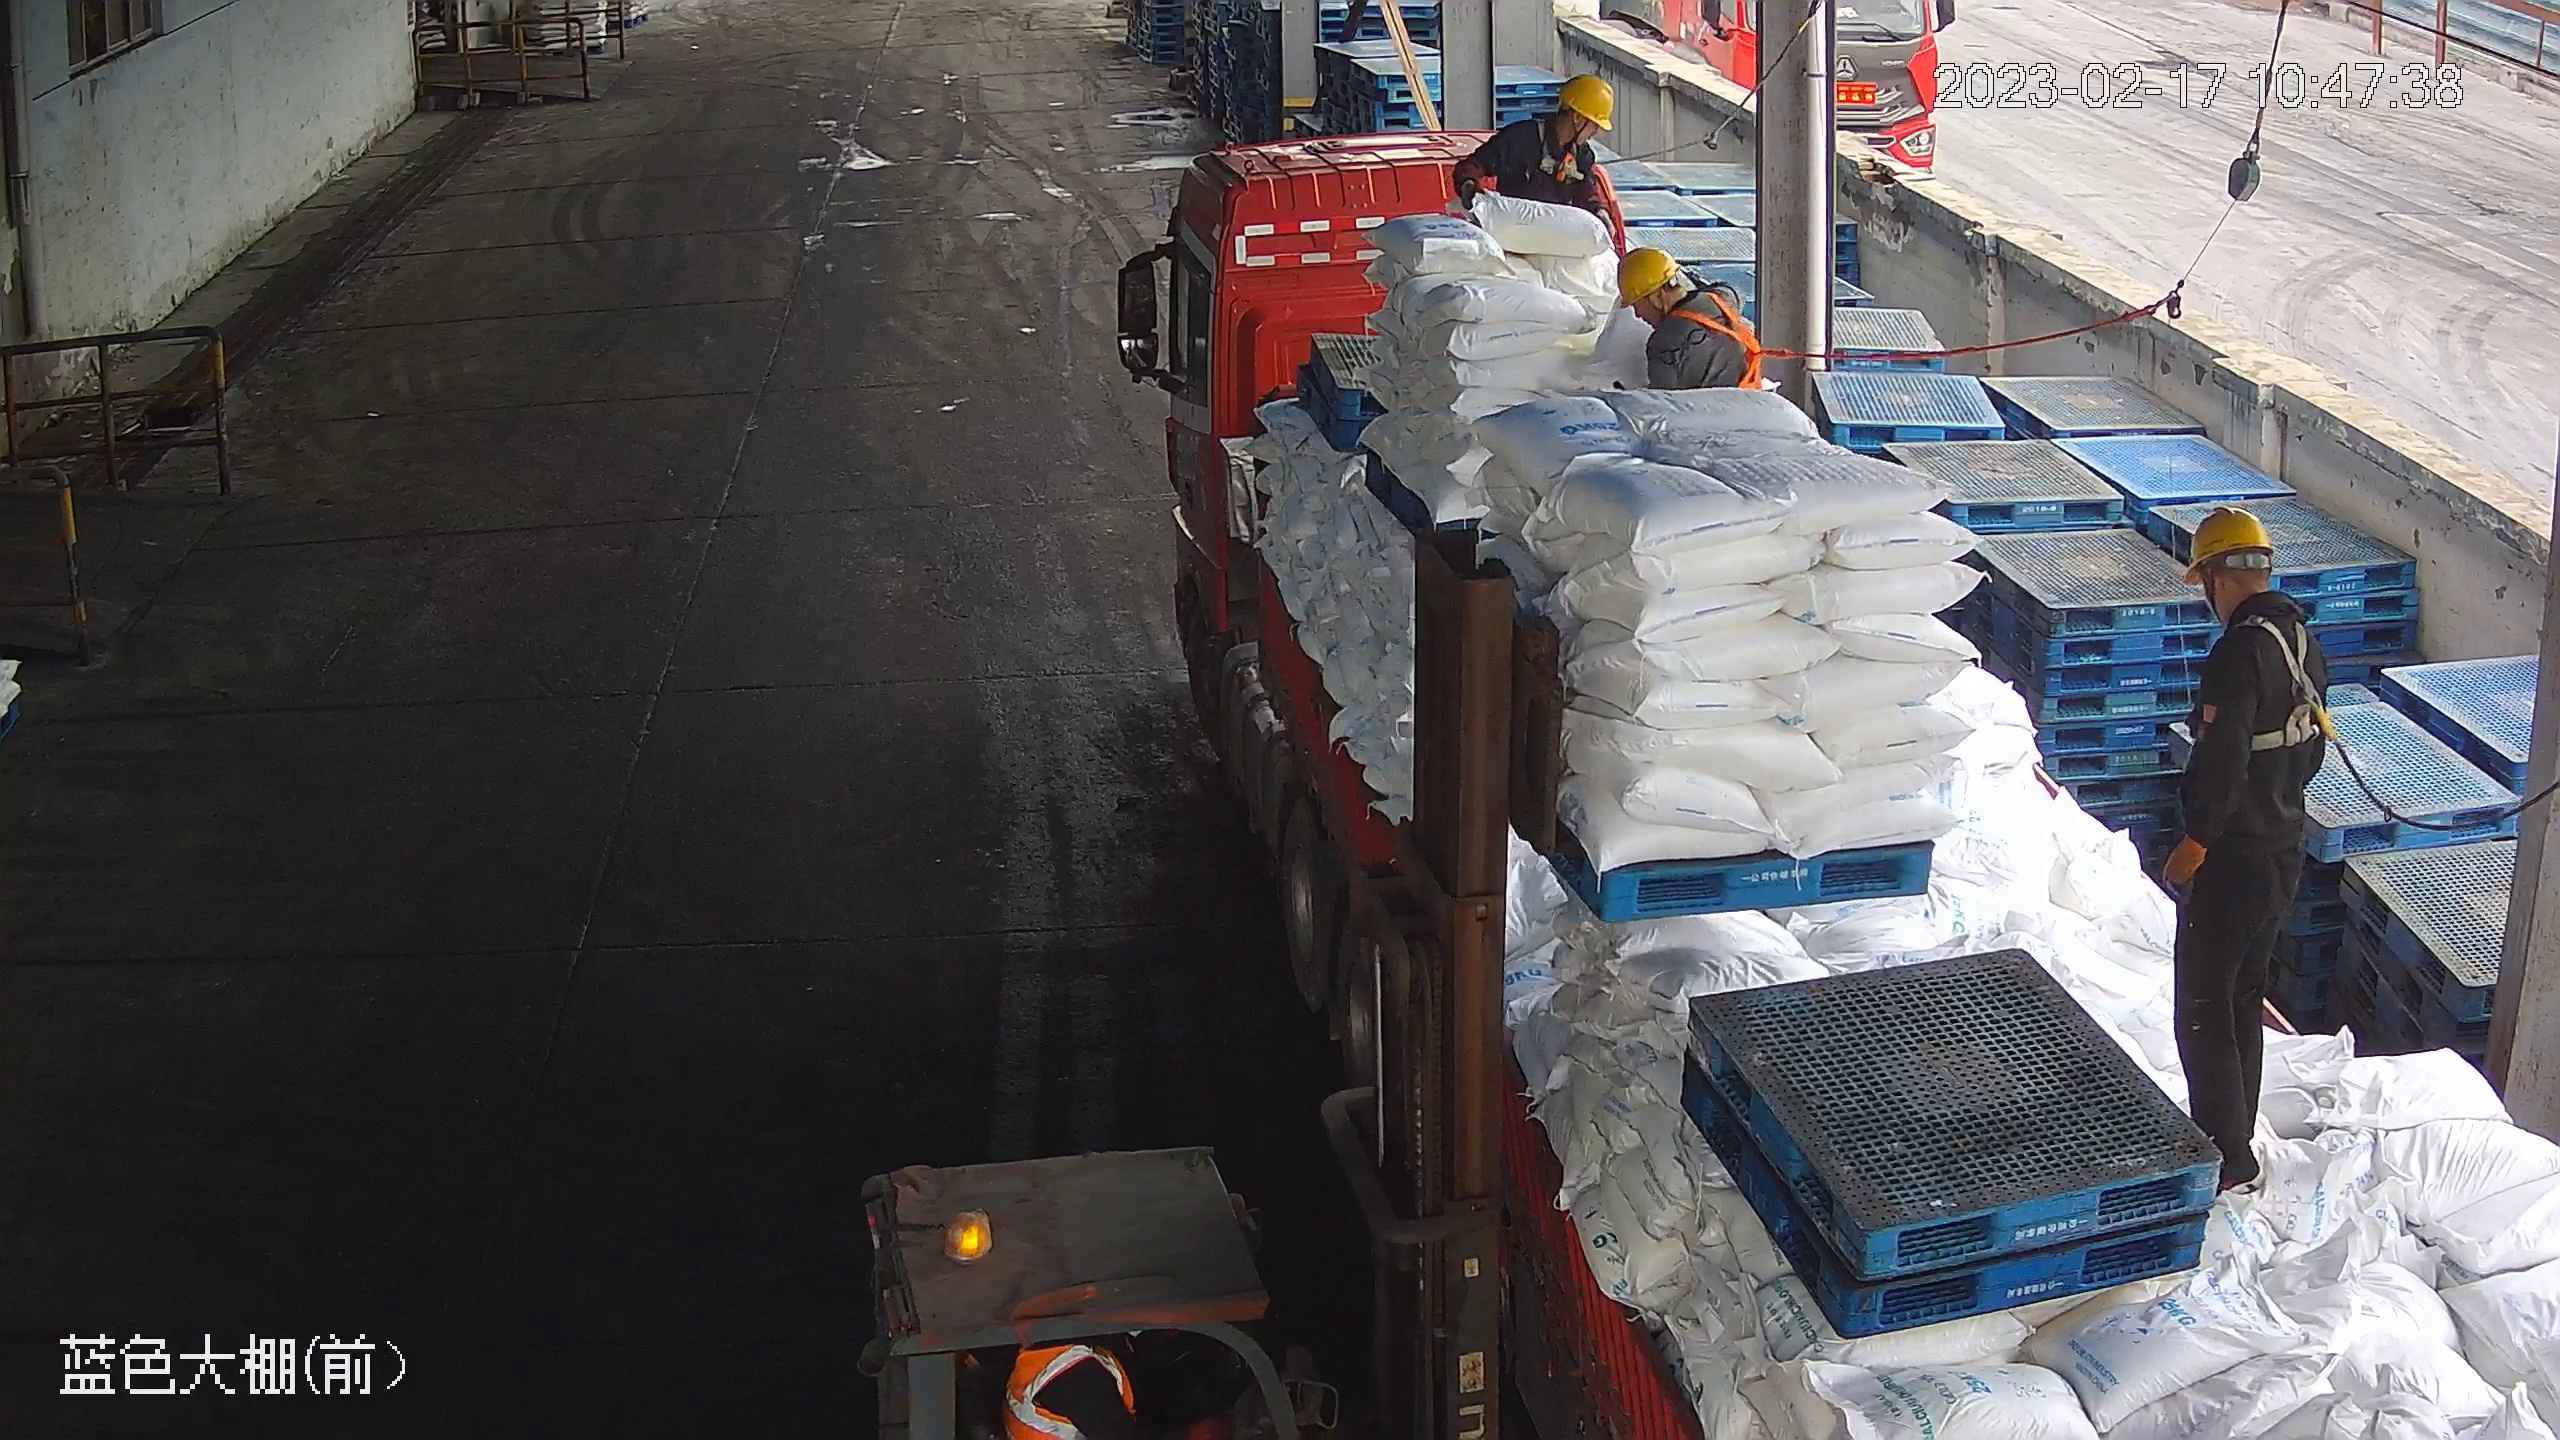belt: (2242, 607, 2344, 751), (1675, 292, 1774, 396), (1533, 116, 1593, 179)
head: (2161, 505, 2334, 703), (1616, 244, 1732, 348), (1498, 69, 1615, 166)
helmet: (2176, 504, 2277, 578), (1613, 243, 1680, 305), (1557, 71, 1616, 128)
people: (2154, 502, 2336, 1196)
truck: (1120, 128, 2560, 1440)
